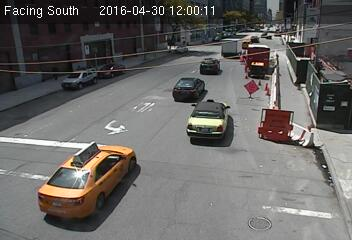neg: (179, 175, 220, 229), (73, 118, 112, 171), (61, 61, 93, 103), (121, 61, 150, 100), (203, 96, 227, 129), (274, 115, 297, 146), (177, 38, 198, 67), (258, 168, 279, 196), (247, 81, 265, 105)
